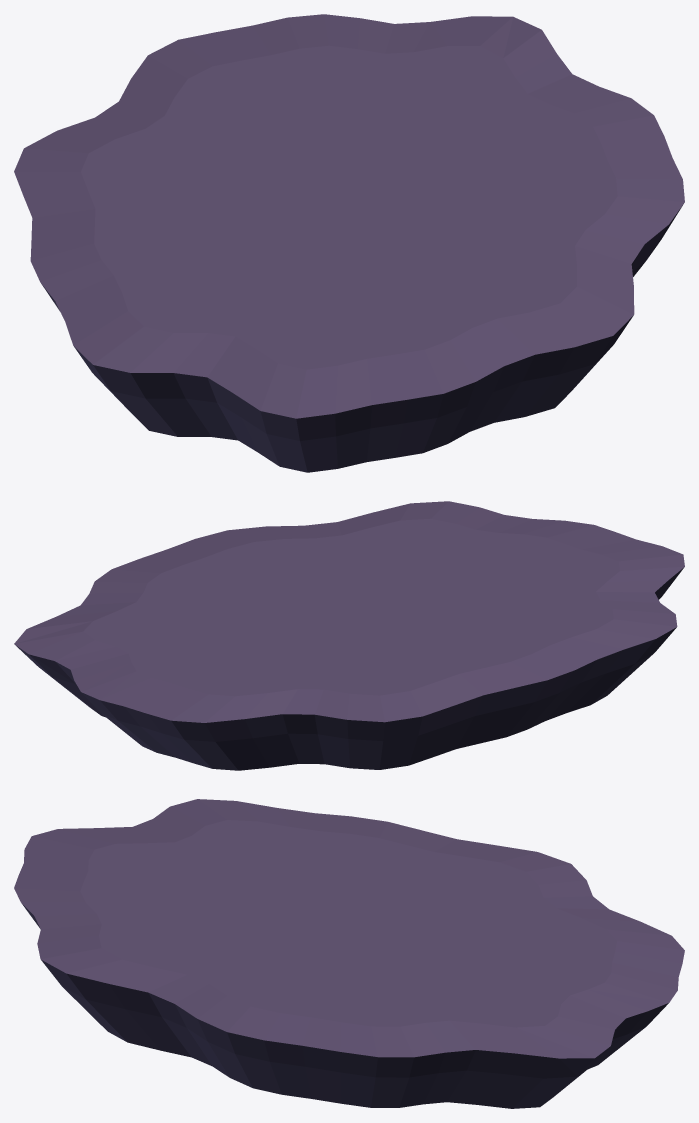
The model's file is Terrain_VoidRift.glb.
3 views of the same model, one above another, from view 1: azimuth 30°, elevation 25°; view 2: azimuth 150°, elevation 25°; view 3: azimuth 270°, elevation 25° (orthographic). The views are drawn at different scales.
Parts seen in each view (by area): view 1: Terrain_VoidRift_VoidRift_ground_-3_-4, Terrain_VoidRift_VoidRift_dark_-3_-4; view 2: Terrain_VoidRift_VoidRift_ground_-3_-4, Terrain_VoidRift_VoidRift_dark_-3_-4; view 3: Terrain_VoidRift_VoidRift_ground_-3_-4, Terrain_VoidRift_VoidRift_dark_-3_-4.
Boxes of the visible parts, box(x1,y1,x2,y2) form: Terrain_VoidRift_VoidRift_ground_-3_-4: box(14, 14, 684, 418); Terrain_VoidRift_VoidRift_dark_-3_-4: box(41, 205, 682, 472); Terrain_VoidRift_VoidRift_ground_-3_-4: box(14, 501, 684, 722); Terrain_VoidRift_VoidRift_dark_-3_-4: box(15, 567, 684, 770); Terrain_VoidRift_VoidRift_ground_-3_-4: box(14, 799, 684, 1058); Terrain_VoidRift_VoidRift_dark_-3_-4: box(21, 903, 668, 1108).
Bounding box in the file's own units: 385 × 58 × 420.
